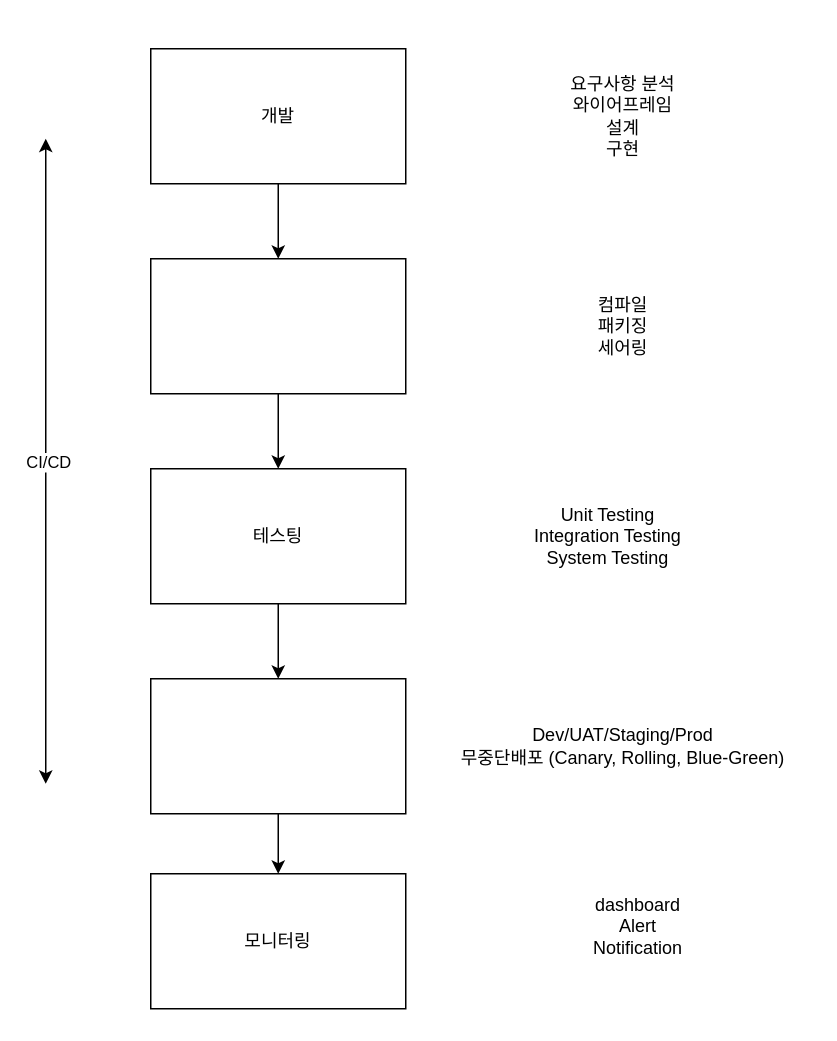
This 837x1041 diagram has some shape labels left out. Here are the shapes that lost their labels. From the top down, the centre of each, then its label:
(x=277, y=325): 빌드
(x=277, y=745): 배포
